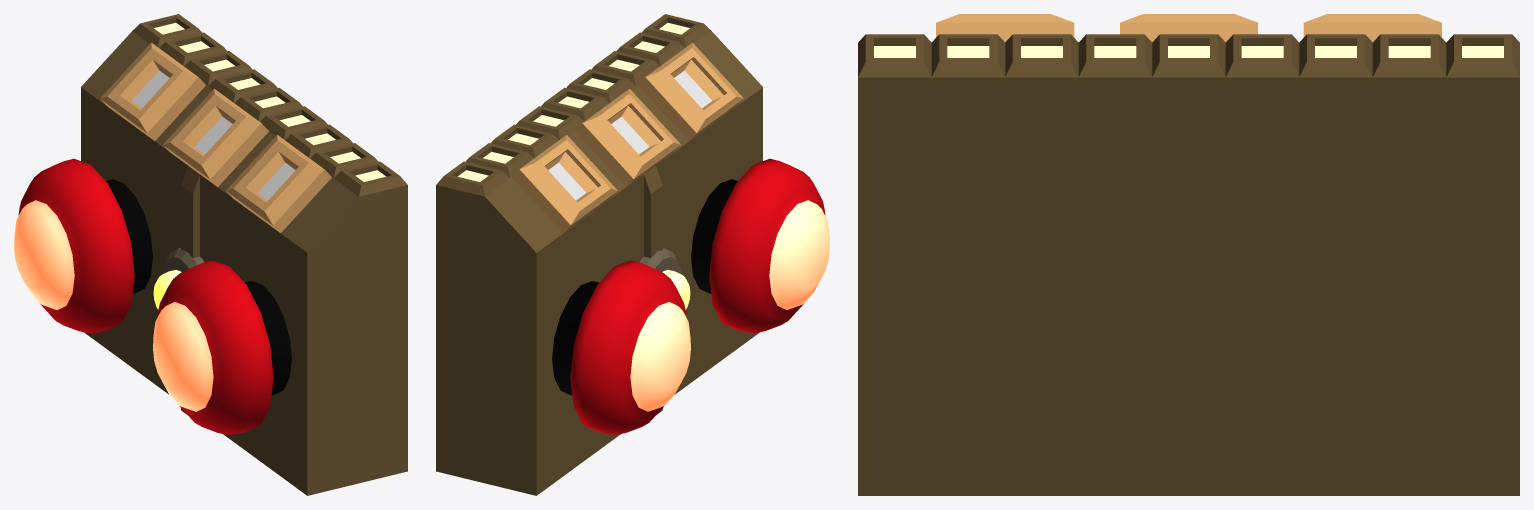
File: Mur-long.fbx
The picture shows the model from 3 angles, left to right: view 1: azimuth 30°, elevation 25°; view 2: azimuth 150°, elevation 25°; view 3: azimuth 270°, elevation 25°; orthographic projection. The views are drawn at different scales.
Visible parts, largest first — view 1: Mur.Long, Mur-Long-Bumpers, Mur.Long-Lights-Top, Mur-Long-Bumper-Light; view 2: Mur.Long, Mur-Long-Bumpers, Mur.Long-Lights-Top, Mur-Long-Bumper-Light; view 3: Mur.Long, Mur.Long-Lights-Top.
Boxes of the visible parts, box(x1,y1,x2,y2) form: Mur.Long: box(81, 14, 407, 495); Mur-Long-Bumpers: box(14, 158, 291, 434); Mur.Long-Lights-Top: box(154, 23, 385, 181); Mur-Long-Bumper-Light: box(153, 248, 203, 309); Mur.Long: box(436, 14, 762, 495); Mur-Long-Bumpers: box(552, 158, 829, 434); Mur.Long-Lights-Top: box(458, 23, 689, 181); Mur-Long-Bumper-Light: box(640, 248, 690, 309); Mur.Long: box(858, 14, 1519, 495); Mur.Long-Lights-Top: box(874, 46, 1503, 57).
Bounding box in the file's own units: 539 × 786 × 1080.
